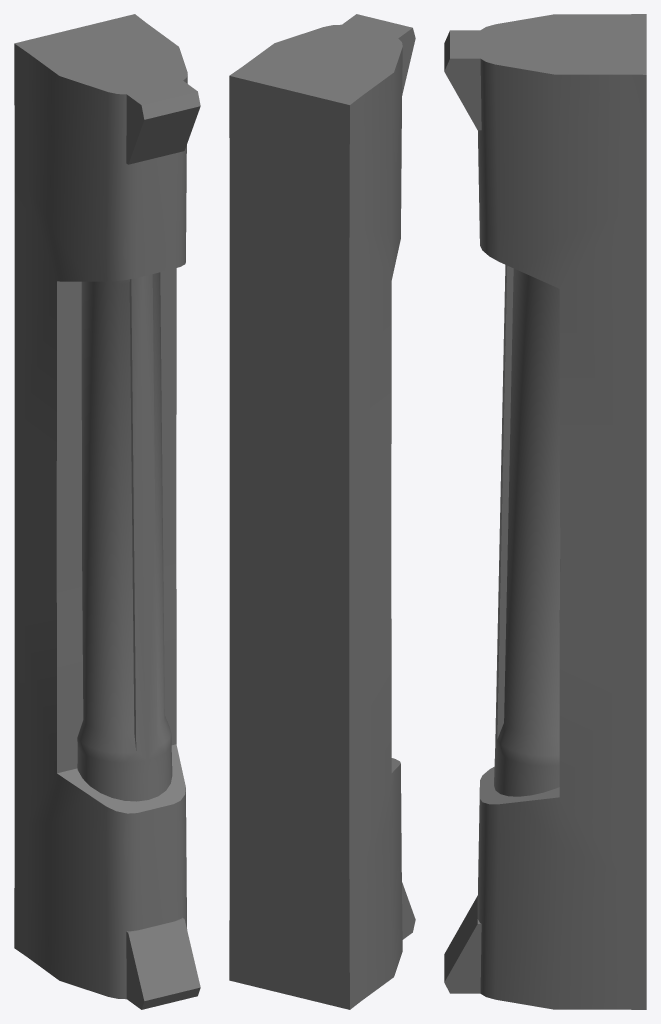
Rendered from q-scifi-mod-column-large-straight.glb.
3 views of the same model, side by side, from view 1: azimuth 30°, elevation 25°; view 2: azimuth 150°, elevation 25°; view 3: azimuth 270°, elevation 25° (orthographic). The views are drawn at different scales.
Visible parts, largest first — view 1: Column_Large_Straight; view 2: Column_Large_Straight; view 3: Column_Large_Straight.
Part boxes in pixels (bbox=[...]): Column_Large_Straight: bbox=[14, 14, 200, 1009]; Column_Large_Straight: bbox=[229, 14, 415, 1009]; Column_Large_Straight: bbox=[444, 14, 646, 1009].
Size of the model in its own units: 1.4 by 10 by 1.96.
4 materials, 4 textured.
